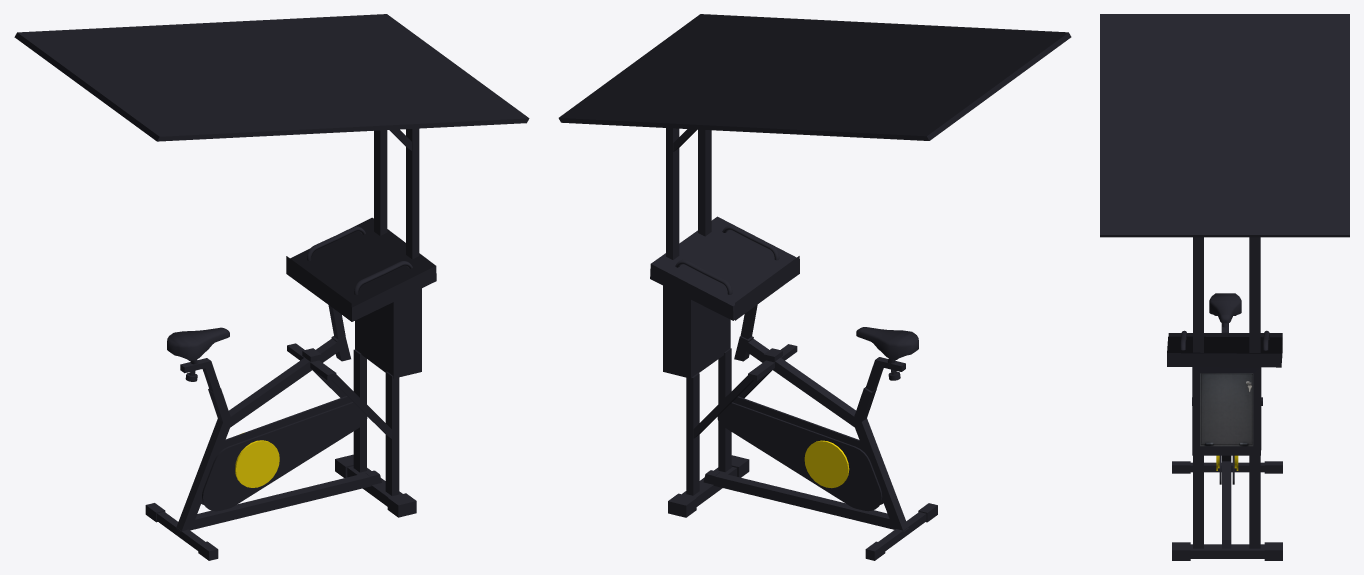
The model's file is Bici_cuerpo.obj.
3 views of the same model, side by side, from view 1: azimuth 30°, elevation 25°; view 2: azimuth 150°, elevation 25°; view 3: azimuth 270°, elevation 25° (orthographic). The views are drawn at different scales.
Parts seen in each view (by area): view 1: Box010, Box005, Group_002, Group_012, Box004, Box002, Box007, Group_017, Component_2_001, Group_20_001, Plane001, Group_015 (+3 smaller); view 2: Box010, Box005, Group_002, Group_015, Box004, Box002, Box007, Group_014, Group_20_001, Component_2_001, Plane001, Group_012 (+2 smaller); view 3: Box010, Box004, Box005, Box002, Box007, Group_20_001, Group_002, Group_20_003, Component_2_001, Plane001.
Boxes of the visible parts, x1,y1,x2,y2 form: Box010: (14, 14, 529, 141); Box005: (290, 217, 436, 321); Group_002: (176, 336, 381, 532); Group_012: (202, 402, 367, 511); Box004: (355, 288, 421, 378); Box002: (374, 128, 419, 259); Box007: (353, 349, 399, 495); Group_017: (235, 440, 279, 487); Component_2_001: (167, 327, 229, 364); Group_20_001: (335, 454, 416, 517); Plane001: (286, 256, 351, 321); Group_015: (201, 396, 352, 504); Box010: (558, 14, 1071, 140); Box005: (650, 216, 799, 320); Group_002: (703, 336, 908, 531); Group_015: (717, 402, 882, 511); Box004: (663, 285, 730, 378); Box002: (666, 128, 711, 259); Box007: (686, 348, 731, 495); Group_014: (804, 440, 849, 488); Group_20_001: (668, 455, 749, 517); Component_2_001: (856, 327, 918, 363); Plane001: (735, 256, 799, 320); Group_012: (732, 396, 883, 504); Box010: (1100, 14, 1349, 237); Box004: (1192, 367, 1261, 455); Box005: (1167, 336, 1282, 367); Box002: (1193, 237, 1260, 352); Box007: (1193, 455, 1260, 548); Group_20_001: (1172, 542, 1282, 560); Group_002: (1222, 455, 1231, 548); Group_20_003: (1172, 461, 1282, 473); Component_2_001: (1209, 293, 1241, 327); Plane001: (1168, 333, 1282, 337).
Size of the model in its own units: 80.16 by 98.53 by 53.14.
3 materials, 3 textured.
